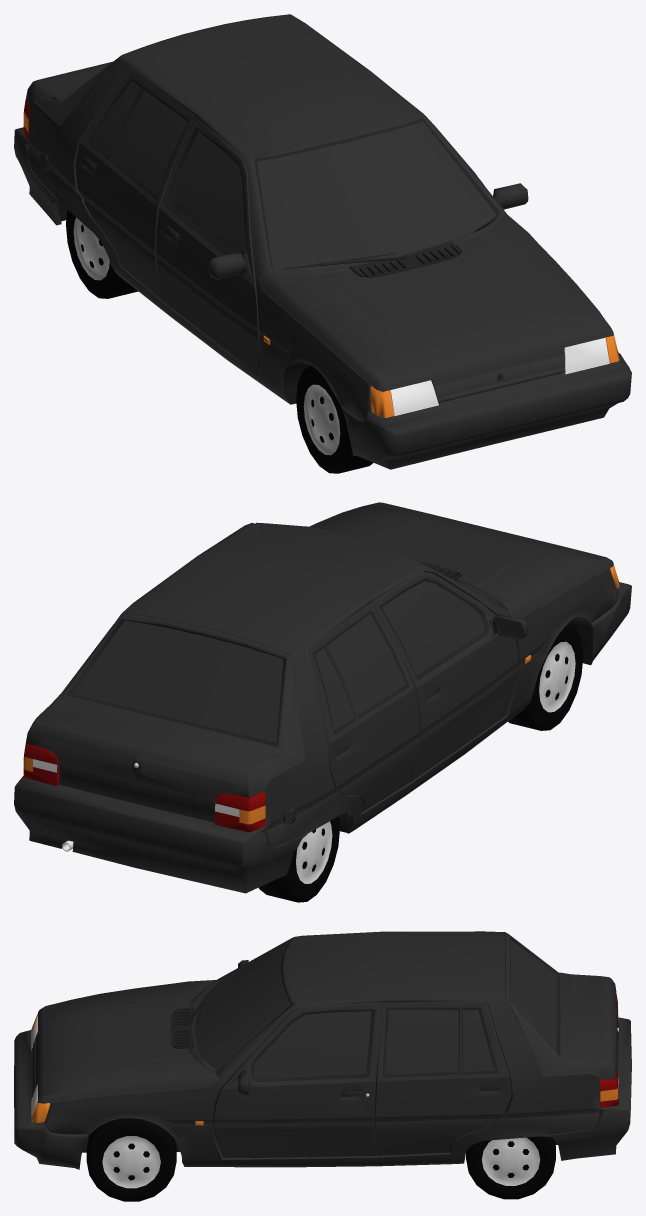
File: Auto-2.fbx
The picture shows the model from 3 angles, top to bottom: view 1: azimuth 30°, elevation 25°; view 2: azimuth 150°, elevation 25°; view 3: azimuth 270°, elevation 25°; orthographic projection. The views are drawn at different scales.
Visible parts, largest first — view 1: Body, Wheel_FR, Wheel_RR; view 2: Body, Wheel_FR, Wheel_RR; view 3: Body, Wheel_FL, Wheel_RL.
Part boxes in pixels (left/top/right/bottom): Body: left=14, top=14, right=631, bottom=469; Wheel_FR: left=296, top=365, right=373, bottom=473; Wheel_RR: left=66, top=209, right=138, bottom=298; Body: left=14, top=502, right=631, bottom=893; Wheel_FR: left=508, top=622, right=583, bottom=730; Wheel_RR: left=258, top=816, right=339, bottom=902; Body: left=14, top=931, right=631, bottom=1169; Wheel_FL: left=86, top=1118, right=176, bottom=1201; Wheel_RL: left=466, top=1136, right=555, bottom=1199.
Bounding box in the file's own units: 190 × 139 × 402.
